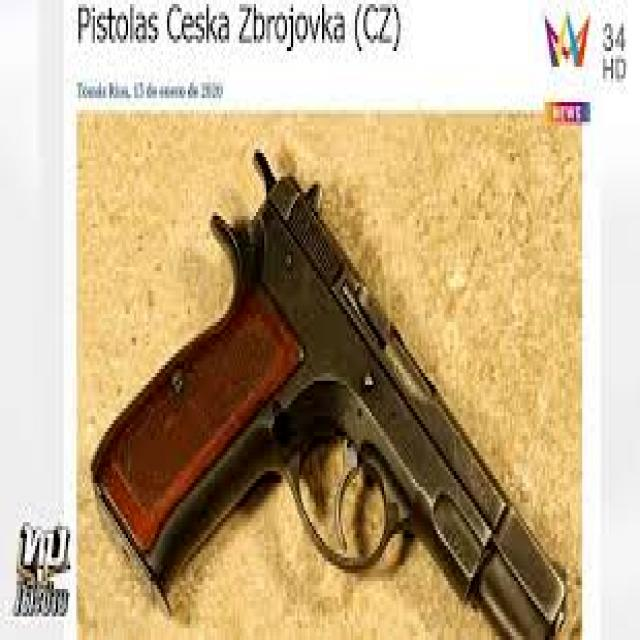semi automatic: (82, 135, 574, 640)
